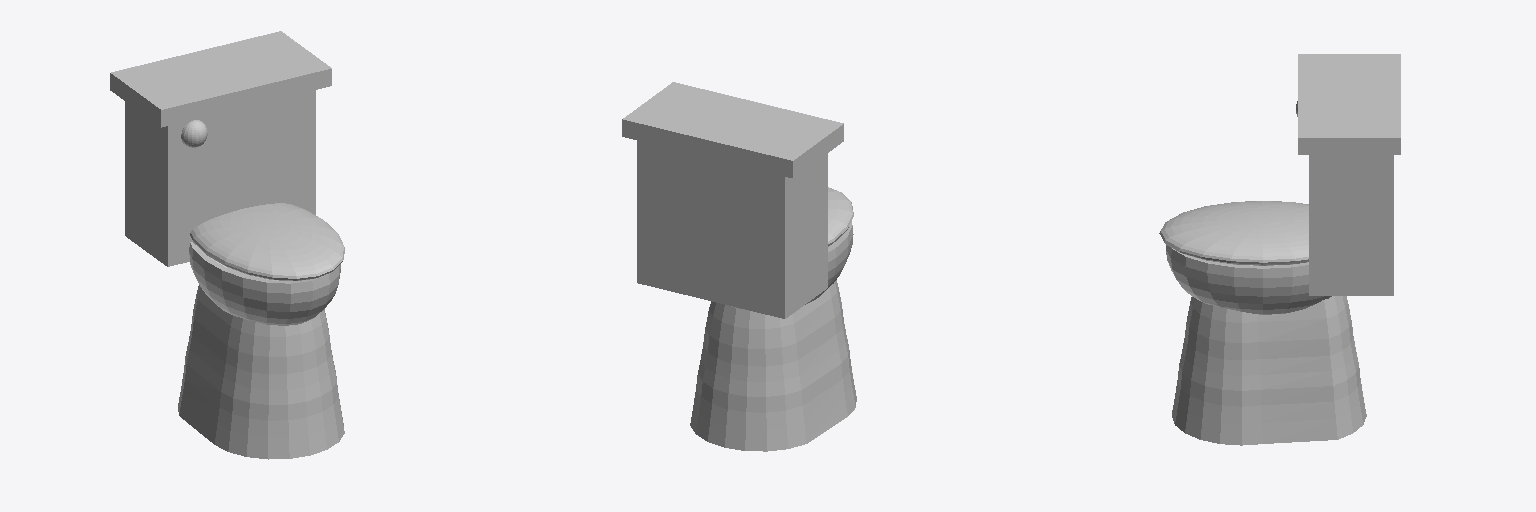
The model's file is baño.obj.
3 views of the same model, side by side, from view 1: azimuth 30°, elevation 25°; view 2: azimuth 150°, elevation 25°; view 3: azimuth 270°, elevation 25° (orthographic).
Parts seen in each view (by area): view 1: pCube3, pCylinder5, pCube2, pSphere2, pSphere1, pSphere3; view 2: pCube3, pCylinder5, pCube2, pSphere2, pSphere1; view 3: pCylinder5, pCube3, pCube2, pSphere2, pSphere1.
Boxes of the visible parts, box(x1,y1,x2,y2) form: pCube3: box(125, 90, 315, 266); pCylinder5: box(178, 267, 344, 459); pCube2: box(110, 31, 331, 127); pSphere2: box(190, 203, 344, 280); pSphere1: box(189, 242, 340, 325); pSphere3: box(181, 120, 207, 147); pCube3: box(637, 141, 827, 318); pCylinder5: box(690, 280, 856, 451); pCube2: box(622, 82, 843, 177); pSphere2: box(828, 187, 853, 245); pSphere1: box(732, 221, 853, 308); pCylinder5: box(1172, 296, 1366, 445); pCube3: box(1309, 155, 1393, 295); pCube2: box(1298, 54, 1400, 154); pSphere2: box(1159, 201, 1308, 265); pSphere1: box(1166, 245, 1331, 314).
Bounding box in the file's own units: 3.14 × 5.61 × 3.84.